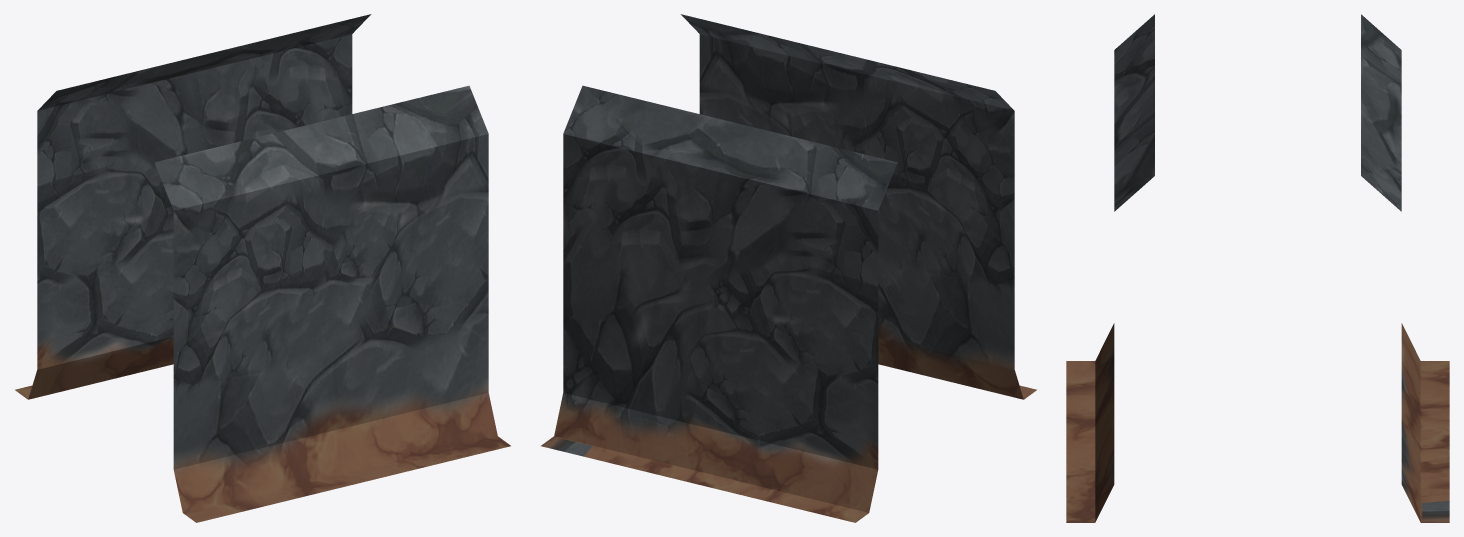
Rendered from DoubleWallTile.fbx.
3 renders of one model, left to right at view 1: azimuth 30°, elevation 25°; view 2: azimuth 150°, elevation 25°; view 3: azimuth 270°, elevation 25°, orthographic. The views are drawn at different scales.
Parts seen in each view (by area): view 1: DoubleWall; view 2: DoubleWall; view 3: DoubleWall.
Part boxes in pixels (x1=…): DoubleWall: x1=15, y1=14, x2=510, y2=522; DoubleWall: x1=541, y1=14, x2=1036, y2=522; DoubleWall: x1=1066, y1=14, x2=1449, y2=522.
Size of the model in its own units: 100 by 100 by 100.
